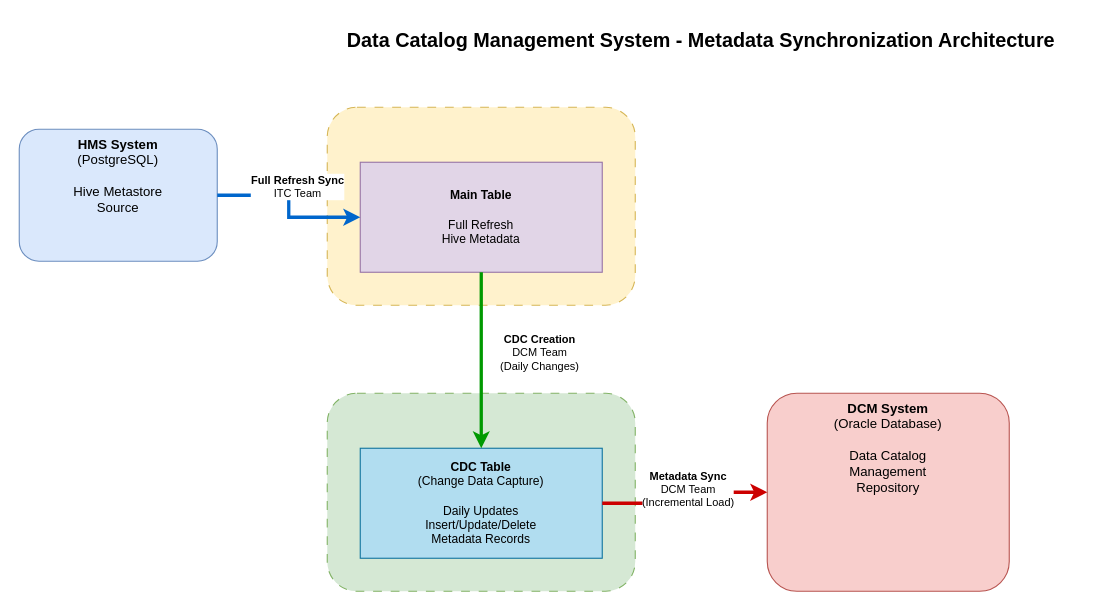
Some shapes in this 1106 by 611 pixel diagram are drawn without their labels. Each missing label, with the box of its shape:
BEM AIF (SDP - Strategic Data Platform): (326, 392, 635, 591)
ITC Hadoop Hive DB (SDP - Strategic Data Platform): (326, 106, 635, 305)
